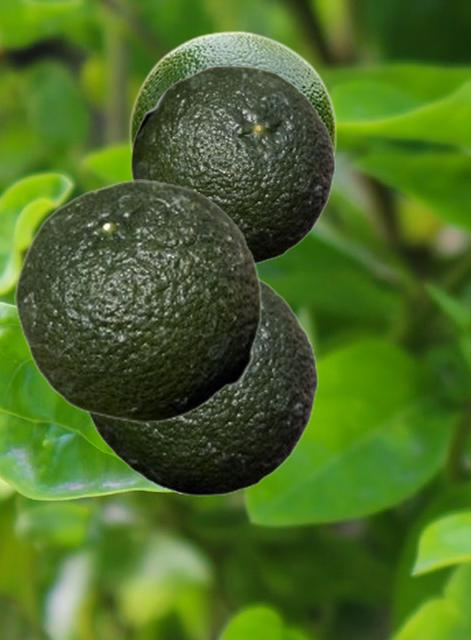calamansi: (14, 179, 261, 422), (84, 275, 318, 495), (130, 65, 335, 264), (128, 30, 337, 156)
